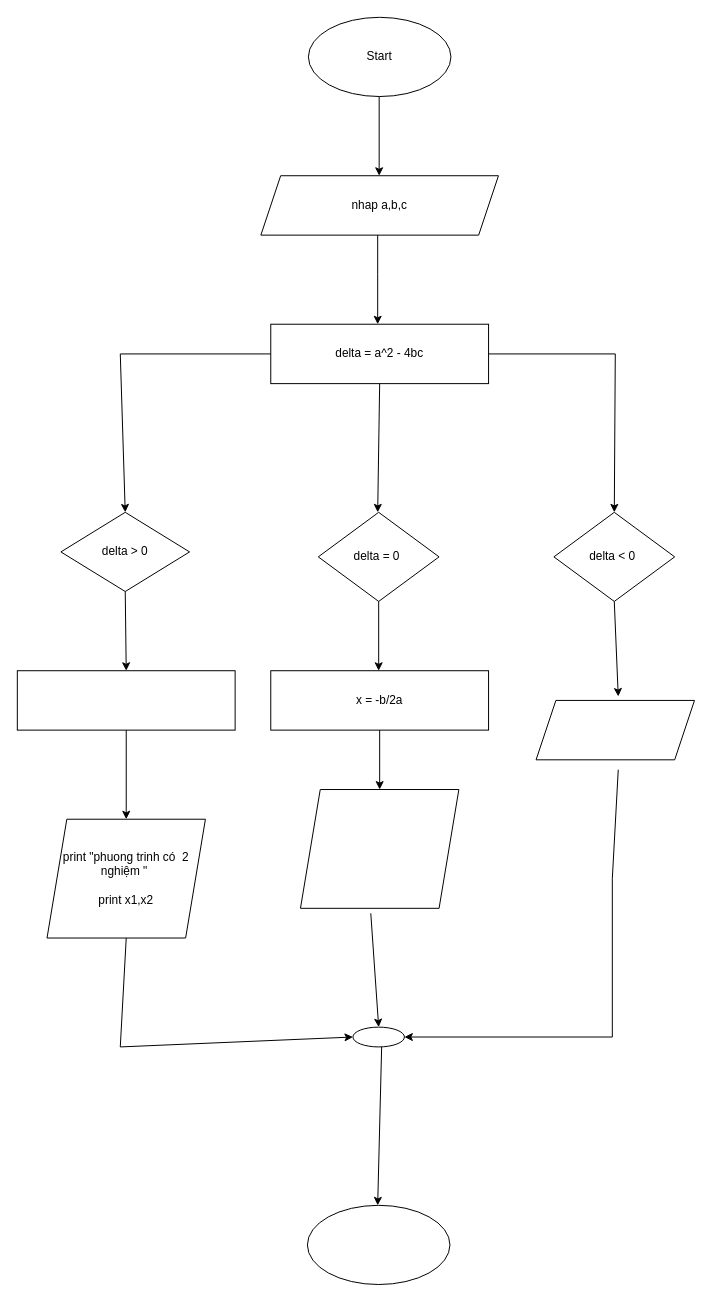
Image size: 712x1302. Some labels were removed from this diagram. Here are the shapes that lost their labels. From the top down, the box of each, then its label:
(16, 670, 235, 730): x1 = (-b + sqrt(delta))/2a x2 = (-b - sqrt(delta))/2a
(535, 699, 694, 760): print "phuong trinh vo nghiem"
(299, 789, 459, 908): print "phuong trinh có nghiệm kép" print x
(306, 1204, 450, 1285): end
